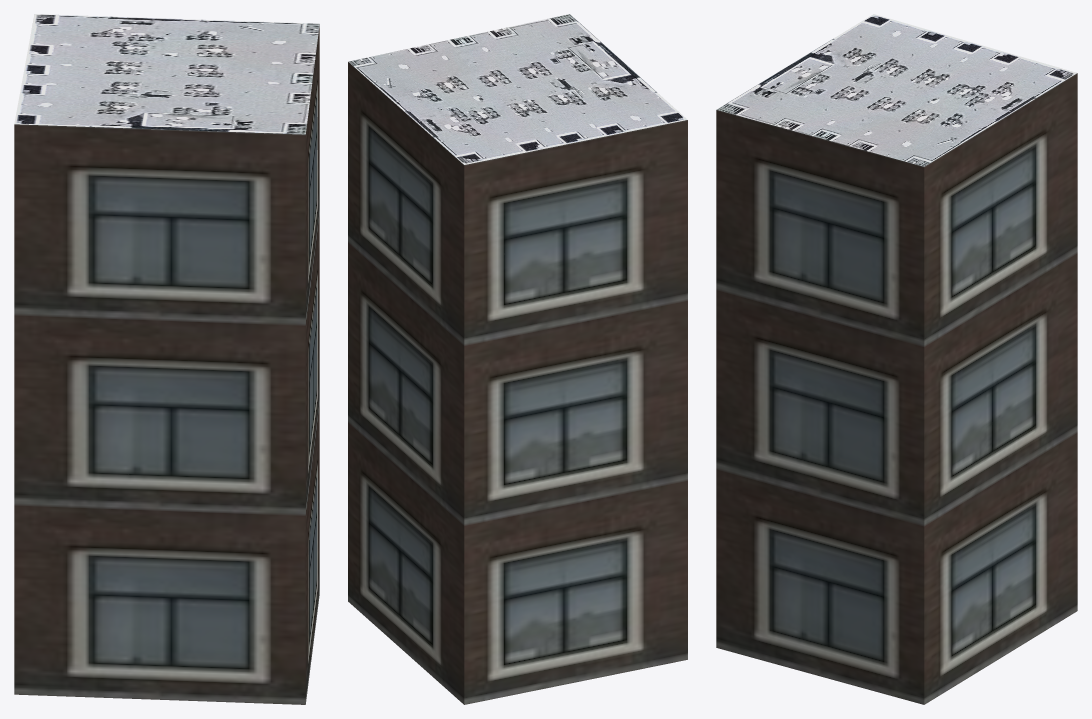
The model's file is ResTex__3656.fbx.
3 views of the same model, side by side, from view 1: azimuth 30°, elevation 25°; view 2: azimuth 150°, elevation 25°; view 3: azimuth 270°, elevation 25° (orthographic). The views are drawn at different scales.
Parts seen in each view (by area): view 1: CityEngineMaterial_16_m, CityEngineMaterial_15_m; view 2: CityEngineMaterial_16_m, CityEngineMaterial_15_m; view 3: CityEngineMaterial_16_m, CityEngineMaterial_15_m.
Boxes of the visible parts, left/top/right/bottom form: CityEngineMaterial_16_m: left=14, top=26, right=319, bottom=704; CityEngineMaterial_15_m: left=14, top=14, right=319, bottom=134; CityEngineMaterial_16_m: left=348, top=62, right=687, bottom=704; CityEngineMaterial_15_m: left=348, top=14, right=687, bottom=164; CityEngineMaterial_16_m: left=716, top=73, right=1077, bottom=704; CityEngineMaterial_15_m: left=717, top=14, right=1076, bottom=166.
Bounding box in the file's own units: 5.49 × 9 × 5.48.
Materials: 2 (2 with a texture image).
